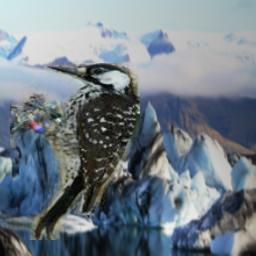Woodpecker: (10, 63, 140, 240)
